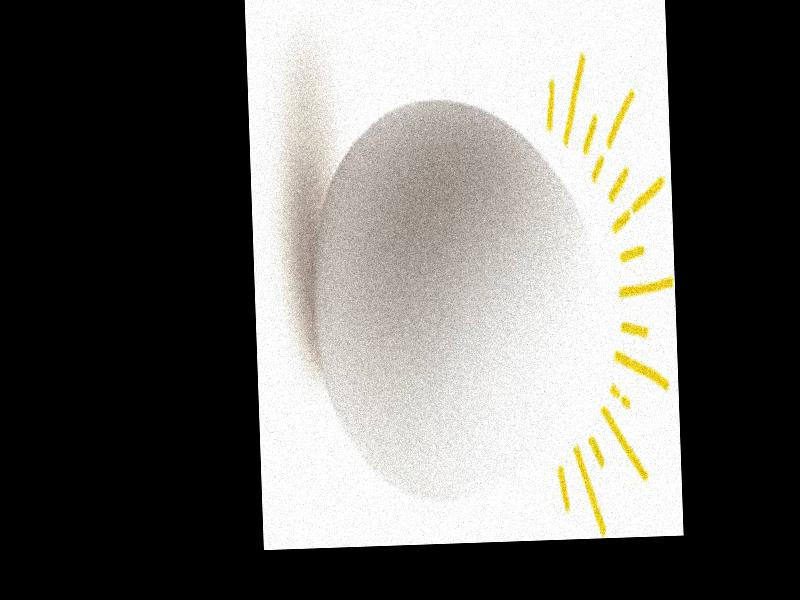Eggs: (307, 95, 603, 508)
